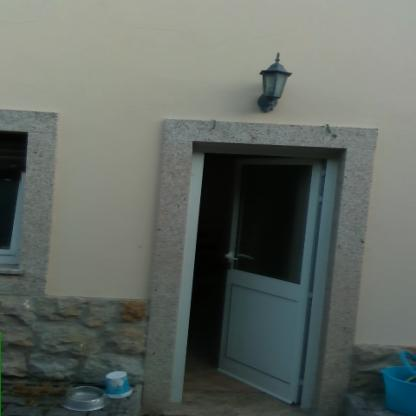semi: (160, 131, 356, 414)
